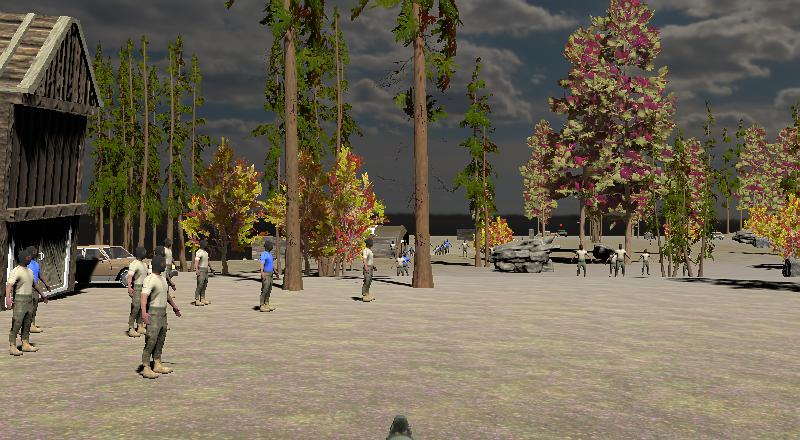House: (0, 9, 103, 300)
Human: (138, 257, 183, 379), (4, 250, 48, 356), (25, 248, 51, 338), (125, 258, 147, 337), (192, 237, 214, 306), (260, 240, 279, 312), (360, 237, 376, 301), (612, 242, 631, 279), (573, 244, 590, 278), (605, 249, 616, 278)
car: (67, 244, 154, 288)
